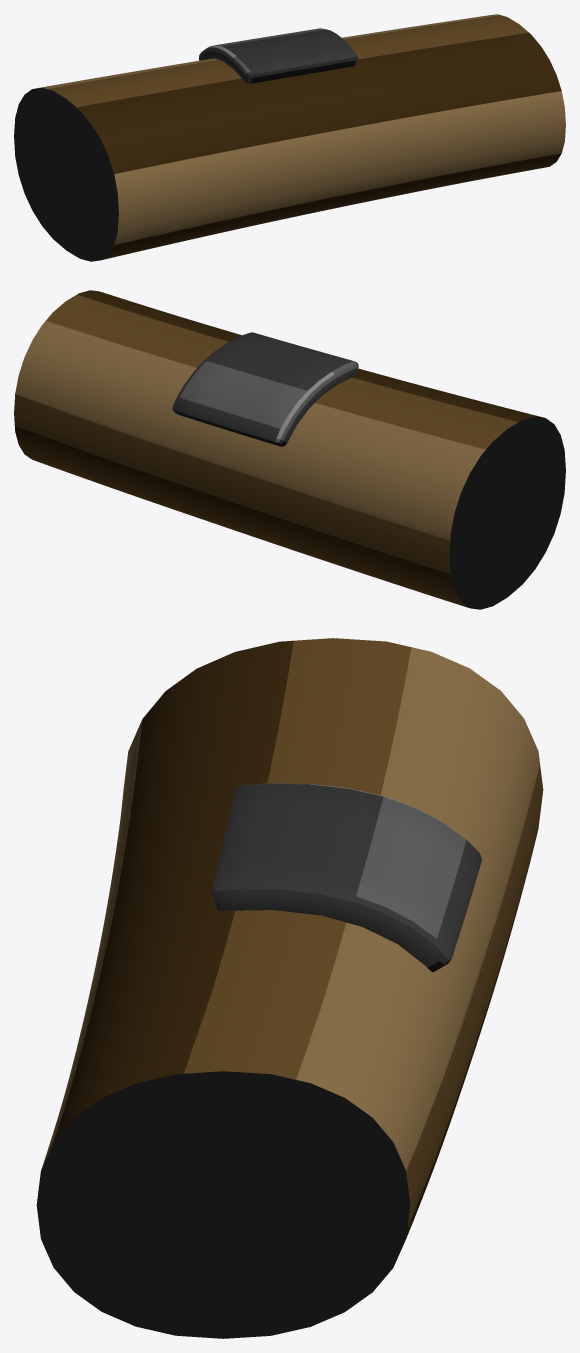
File: tusk_arm_a_191.glb
3 views of the same model, one above another, from view 1: azimuth 30°, elevation 25°; view 2: azimuth 150°, elevation 25°; view 3: azimuth 270°, elevation 25° (orthographic). The views are drawn at different scales.
Visible parts, largest first — view 1: tusk_arm_a_191; view 2: tusk_arm_a_191; view 3: tusk_arm_a_191.
Boxes of the visible parts, bbox=[...] form: tusk_arm_a_191: bbox=[14, 14, 565, 261]; tusk_arm_a_191: bbox=[14, 290, 565, 609]; tusk_arm_a_191: bbox=[36, 638, 543, 1338].
Size of the model in its own units: 24 by 8.56 by 12.38.
